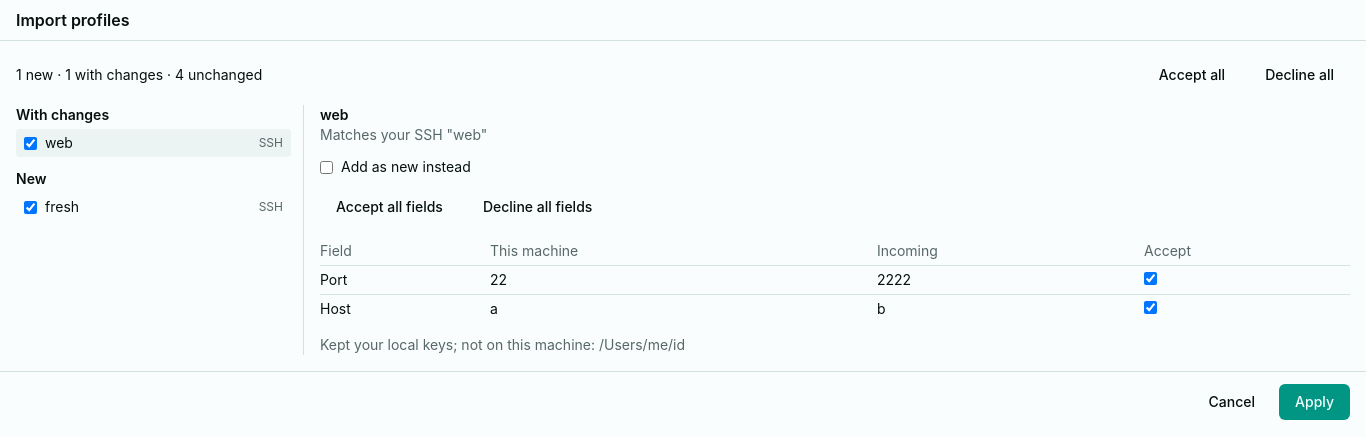
Test: decline all turns every row off
The width and height of the screenshot is (1366, 437).
Click the button "Decline all": x=1300, y=75 [1249,57,1350,93]
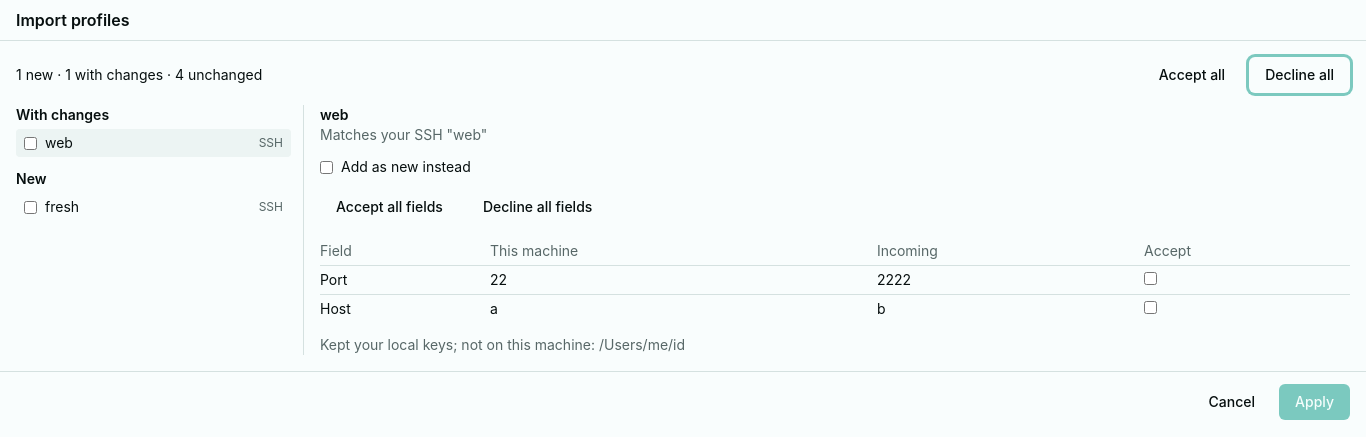
Expected: the checkbox named "Import web" is not checked, [24,136,37,150]
Expected: the checkbox named "Import fresh" is not checked, [24,200,37,214]
